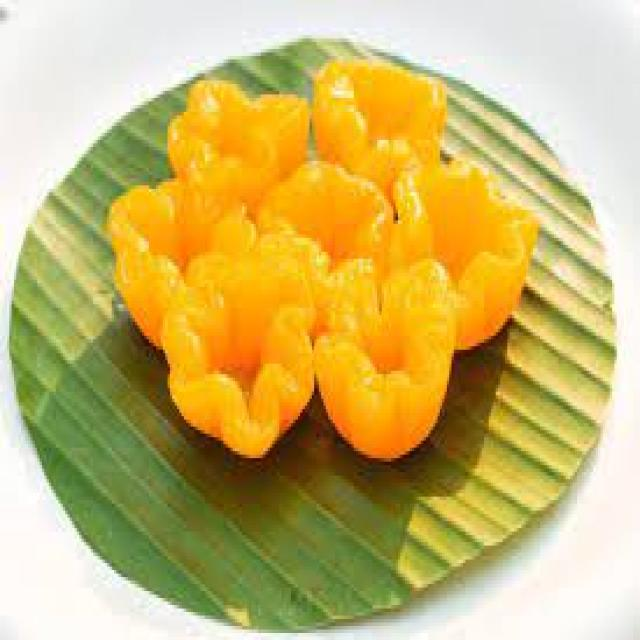Tongyib: (118, 155, 312, 444), (390, 160, 534, 368), (303, 254, 441, 448), (272, 116, 394, 304), (165, 70, 315, 208), (314, 52, 450, 200)
